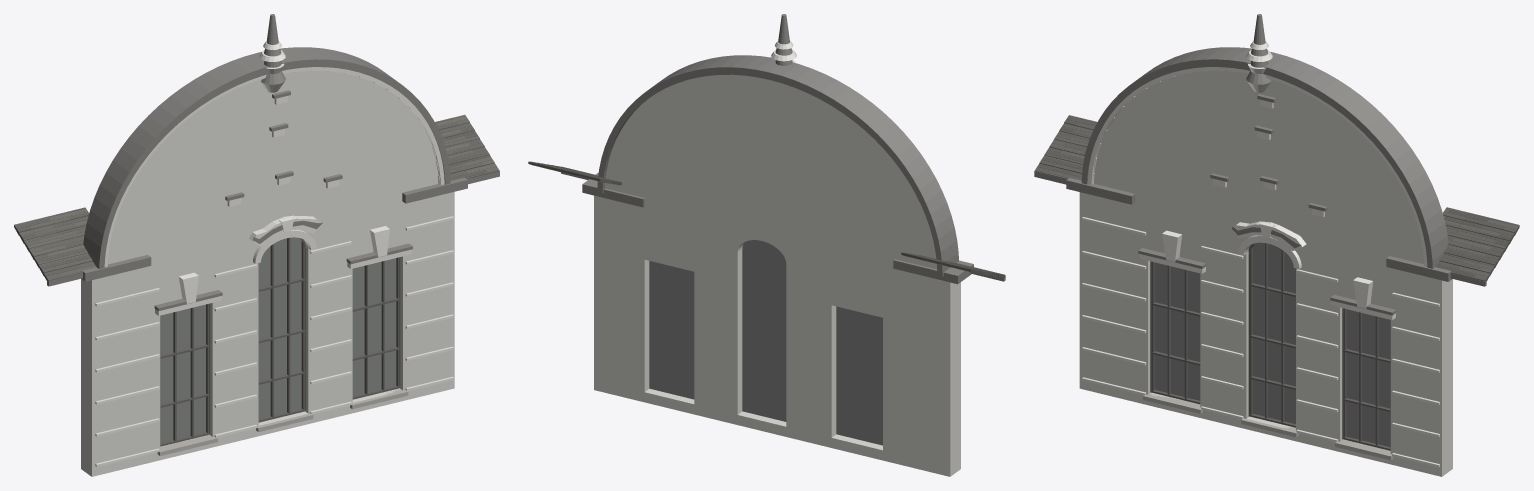
File: hongkou-western-public-school-semicircular-gable-web.glb
The picture shows the model from 3 angles, left to right: view 1: azimuth 30°, elevation 25°; view 2: azimuth 150°, elevation 25°; view 3: azimuth 330°, elevation 25°; orthographic projection.
Visible parts, largest first — view 1: 西童公学北四川路校舍半圆山墙与三联窗; view 2: 西童公学北四川路校舍半圆山墙与三联窗; view 3: 西童公学北四川路校舍半圆山墙与三联窗.
Boxes of the visible parts, left/top/right/bottom form: 西童公学北四川路校舍半圆山墙与三联窗: left=14, top=14, right=499, bottom=476; 西童公学北四川路校舍半圆山墙与三联窗: left=528, top=14, right=1005, bottom=476; 西童公学北四川路校舍半圆山墙与三联窗: left=1034, top=14, right=1519, bottom=476.
Bounding box in the file's own units: 10 × 8.86 × 1.56.
Materials: 8 (1 with a texture image).
